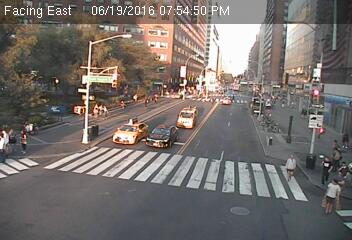neg: (243, 85, 267, 117), (59, 149, 82, 180), (231, 194, 254, 225), (66, 51, 89, 81), (116, 42, 138, 71), (22, 74, 43, 102), (125, 119, 145, 146), (189, 65, 209, 91), (72, 117, 86, 136), (287, 208, 301, 227), (215, 88, 228, 105), (186, 112, 194, 123)
pos: (320, 177, 349, 216), (278, 151, 301, 182), (12, 127, 32, 153), (316, 156, 336, 182), (327, 137, 346, 162), (339, 127, 351, 149)
